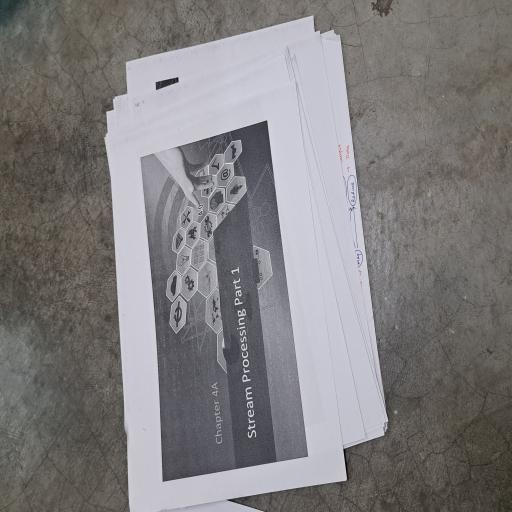paper: (0, 139, 370, 512)
